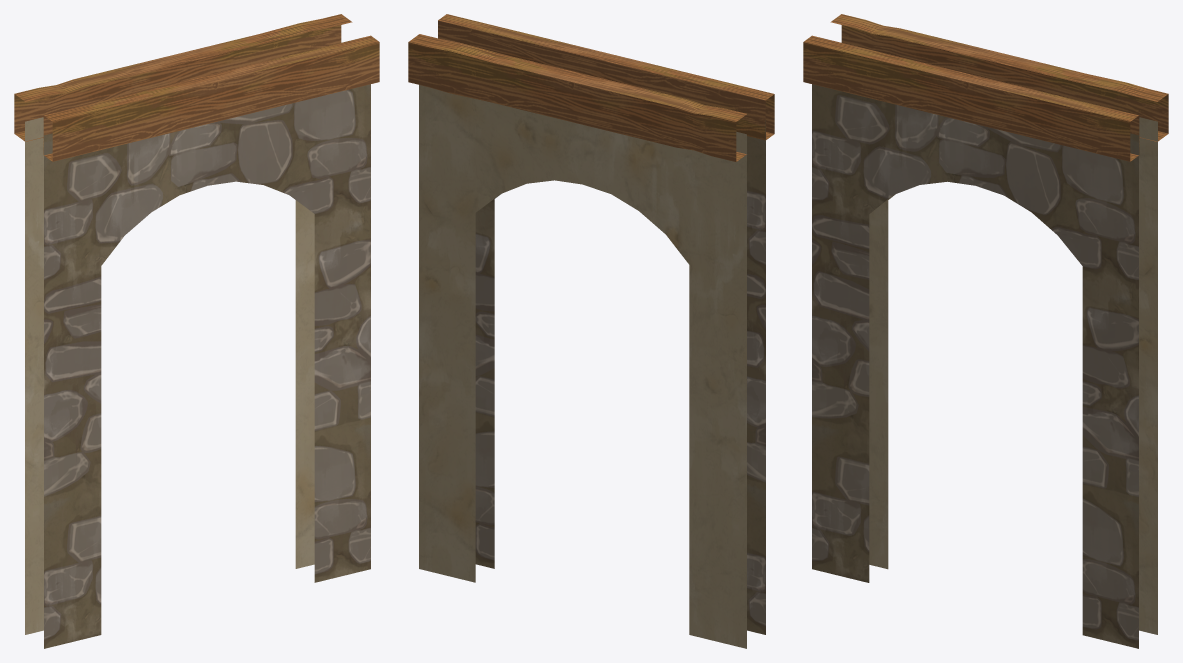
The model's file is Wall_UnevenBrick_Door_Round.gltf.
3 views of the same model, side by side, from view 1: azimuth 30°, elevation 25°; view 2: azimuth 150°, elevation 25°; view 3: azimuth 330°, elevation 25° (orthographic).
Visible parts, largest first — view 1: Wall_UnevenBrick_Door_Round; view 2: Wall_UnevenBrick_Door_Round; view 3: Wall_UnevenBrick_Door_Round.
Boxes of the visible parts, box(x1,y1,x2,y2) form: Wall_UnevenBrick_Door_Round: box(14, 14, 379, 648); Wall_UnevenBrick_Door_Round: box(408, 14, 774, 648); Wall_UnevenBrick_Door_Round: box(803, 14, 1168, 648).
Bounding box in the file's own units: 2 × 3.12 × 0.4065.
Materials: 3 (3 with a texture image).
